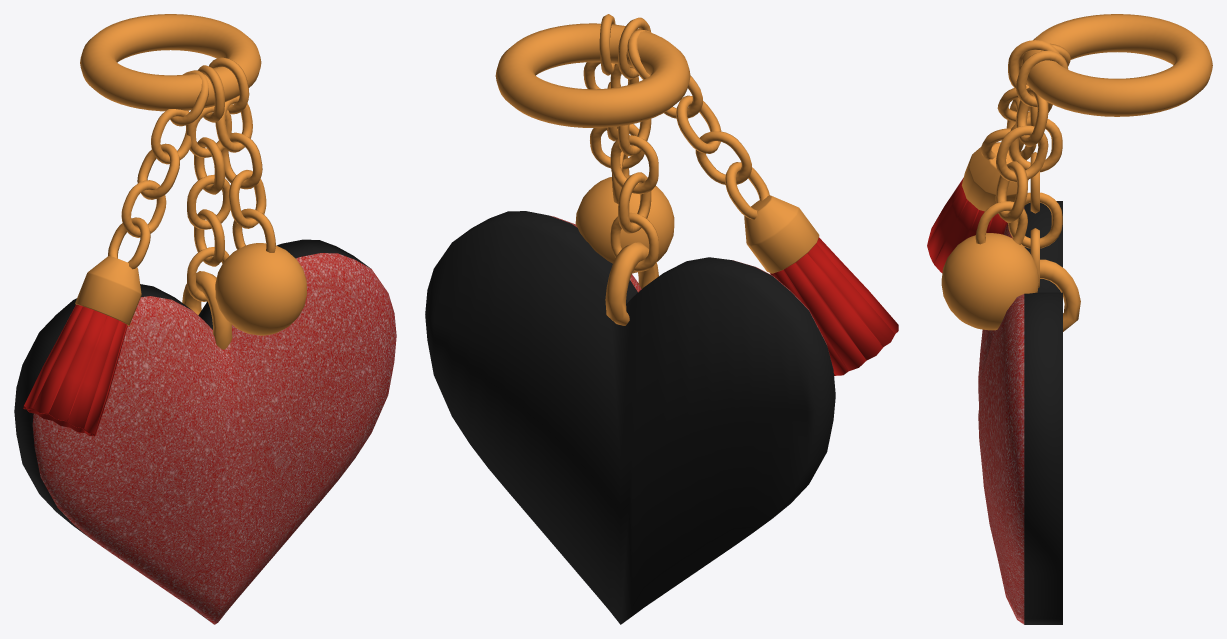
Rendered from Charm.fbx.
The picture shows the model from 3 angles, left to right: view 1: azimuth 30°, elevation 25°; view 2: azimuth 150°, elevation 25°; view 3: azimuth 270°, elevation 25°; orthographic projection. The views are drawn at different scales.
Parts seen in each view (by area): view 1: Charm.004, Charm, Charm.005, Charm.006, Charm.001, Charm.007, Charm.008; view 2: Charm.004, Charm, Charm.005, Charm.001, Charm.007, Charm.006, Charm.008; view 3: Charm.004, Charm, Charm.006, Charm.008, Charm.001, Charm.005, Charm.007.
Boxes of the visible parts, x1=… form: Charm.004: x1=14, y1=239, x2=396, y2=624; Charm: x1=80, y1=14, x2=261, y2=111; Charm.005: x1=23, y1=256, x2=141, y2=436; Charm.006: x1=215, y1=243, x2=306, y2=335; Charm.001: x1=182, y1=65, x2=232, y2=349; Charm.007: x1=108, y1=70, x2=208, y2=269; Charm.008: x1=209, y1=57, x2=275, y2=252; Charm.004: x1=425, y1=211, x2=835, y2=624; Charm: x1=495, y1=23, x2=690, y2=127; Charm.005: x1=744, y1=195, x2=898, y2=375; Charm.001: x1=605, y1=17, x2=658, y2=325; Charm.007: x1=627, y1=29, x2=769, y2=219; Charm.006: x1=575, y1=175, x2=674, y2=273; Charm.008: x1=583, y1=14, x2=644, y2=203; Charm.004: x1=978, y1=201, x2=1062, y2=624; Charm: x1=1021, y1=14, x2=1212, y2=116; Charm.006: x1=941, y1=232, x2=1038, y2=330; Charm.008: x1=975, y1=50, x2=1068, y2=244; Charm.001: x1=1008, y1=40, x2=1080, y2=331; Charm.005: x1=927, y1=142, x2=1028, y2=272; Charm.007: x1=980, y1=43, x2=1070, y2=160.
Size of the model in its own units: 36.72 by 49.6 by 21.95.
